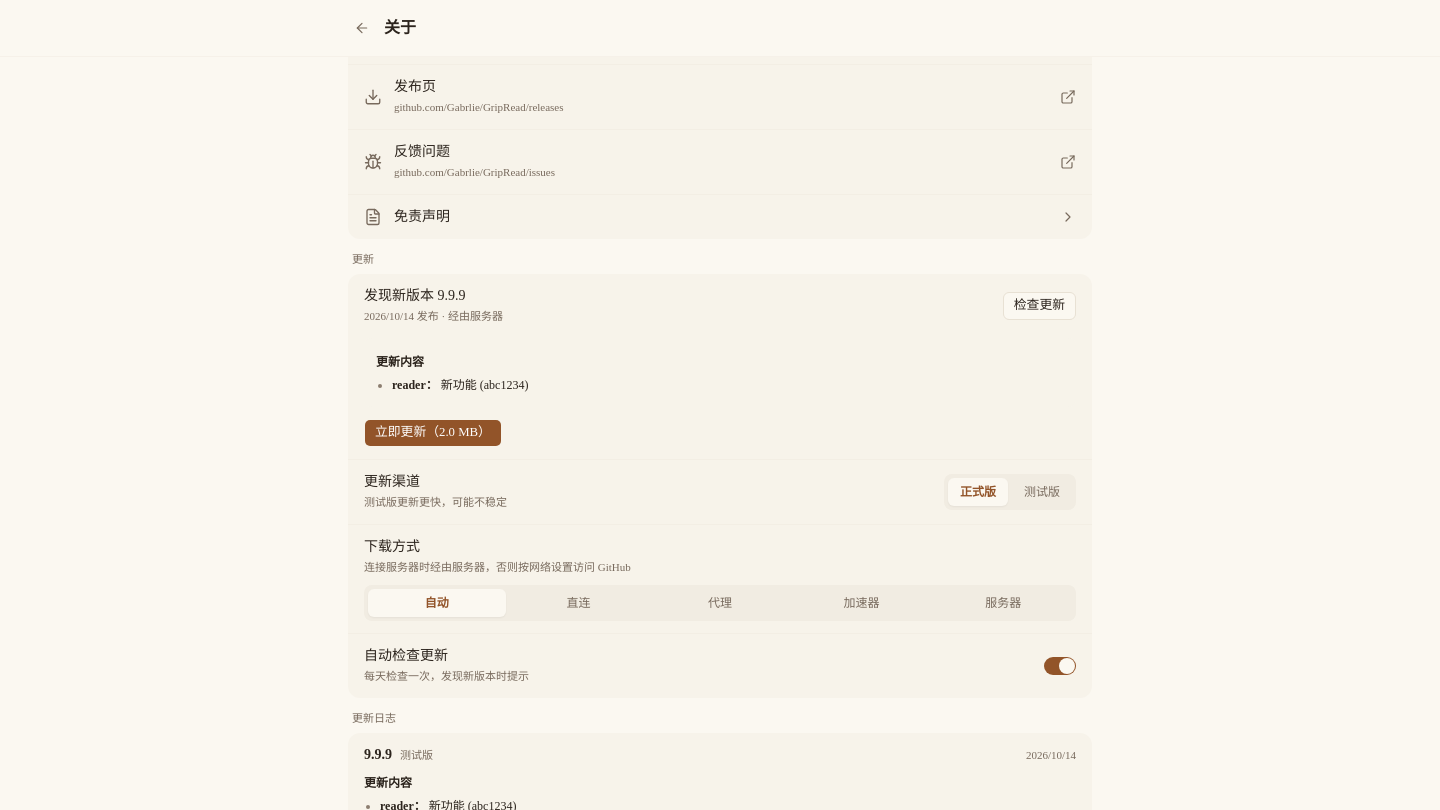
关于 › checks on opening, shows the notes, and installs the update
(page scrolled)
expect the text "发现新版本 9.9.9" is shown: met, box top-left (364, 288), bottom-right (466, 302)
expect the text "2026/10/14 发布 · 经由服务器" is shown: met, box top-left (364, 306), bottom-right (503, 326)
Click the button "立即更新（2.0 MB）".
click(433, 433)  # box top-left (364, 419), bottom-right (502, 447)
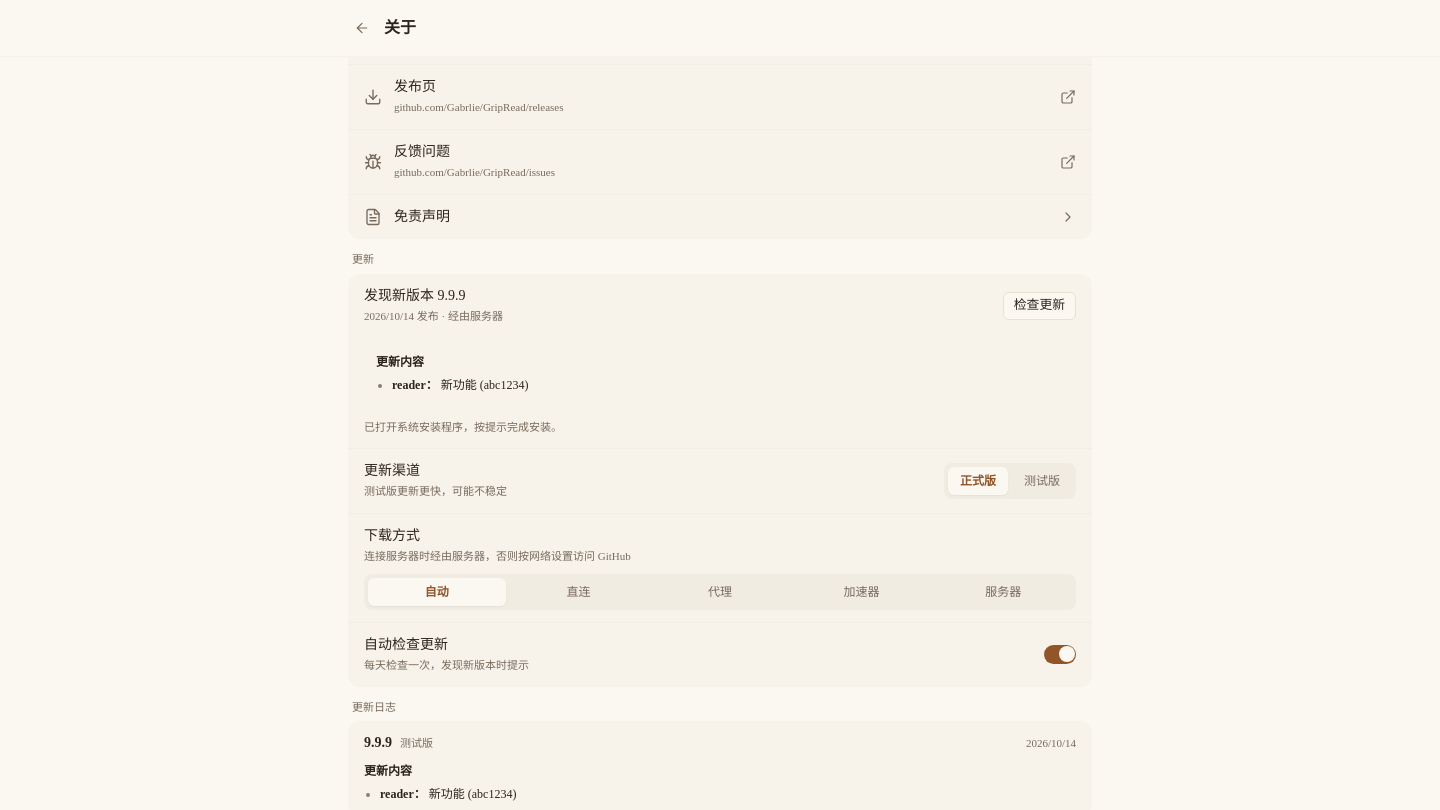
expect the text "已打开系统安装程序，按提示完成安装。" is shown: met, box top-left (364, 421), bottom-right (562, 433)
